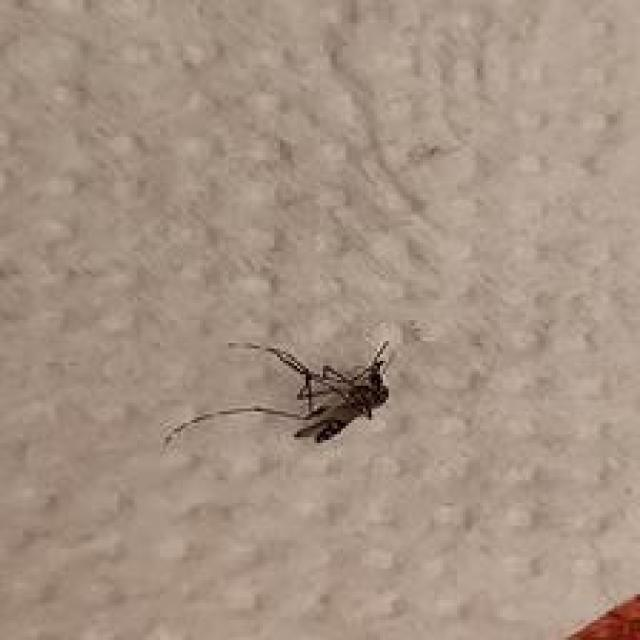Aedes albopictus: (161, 336, 396, 450)
